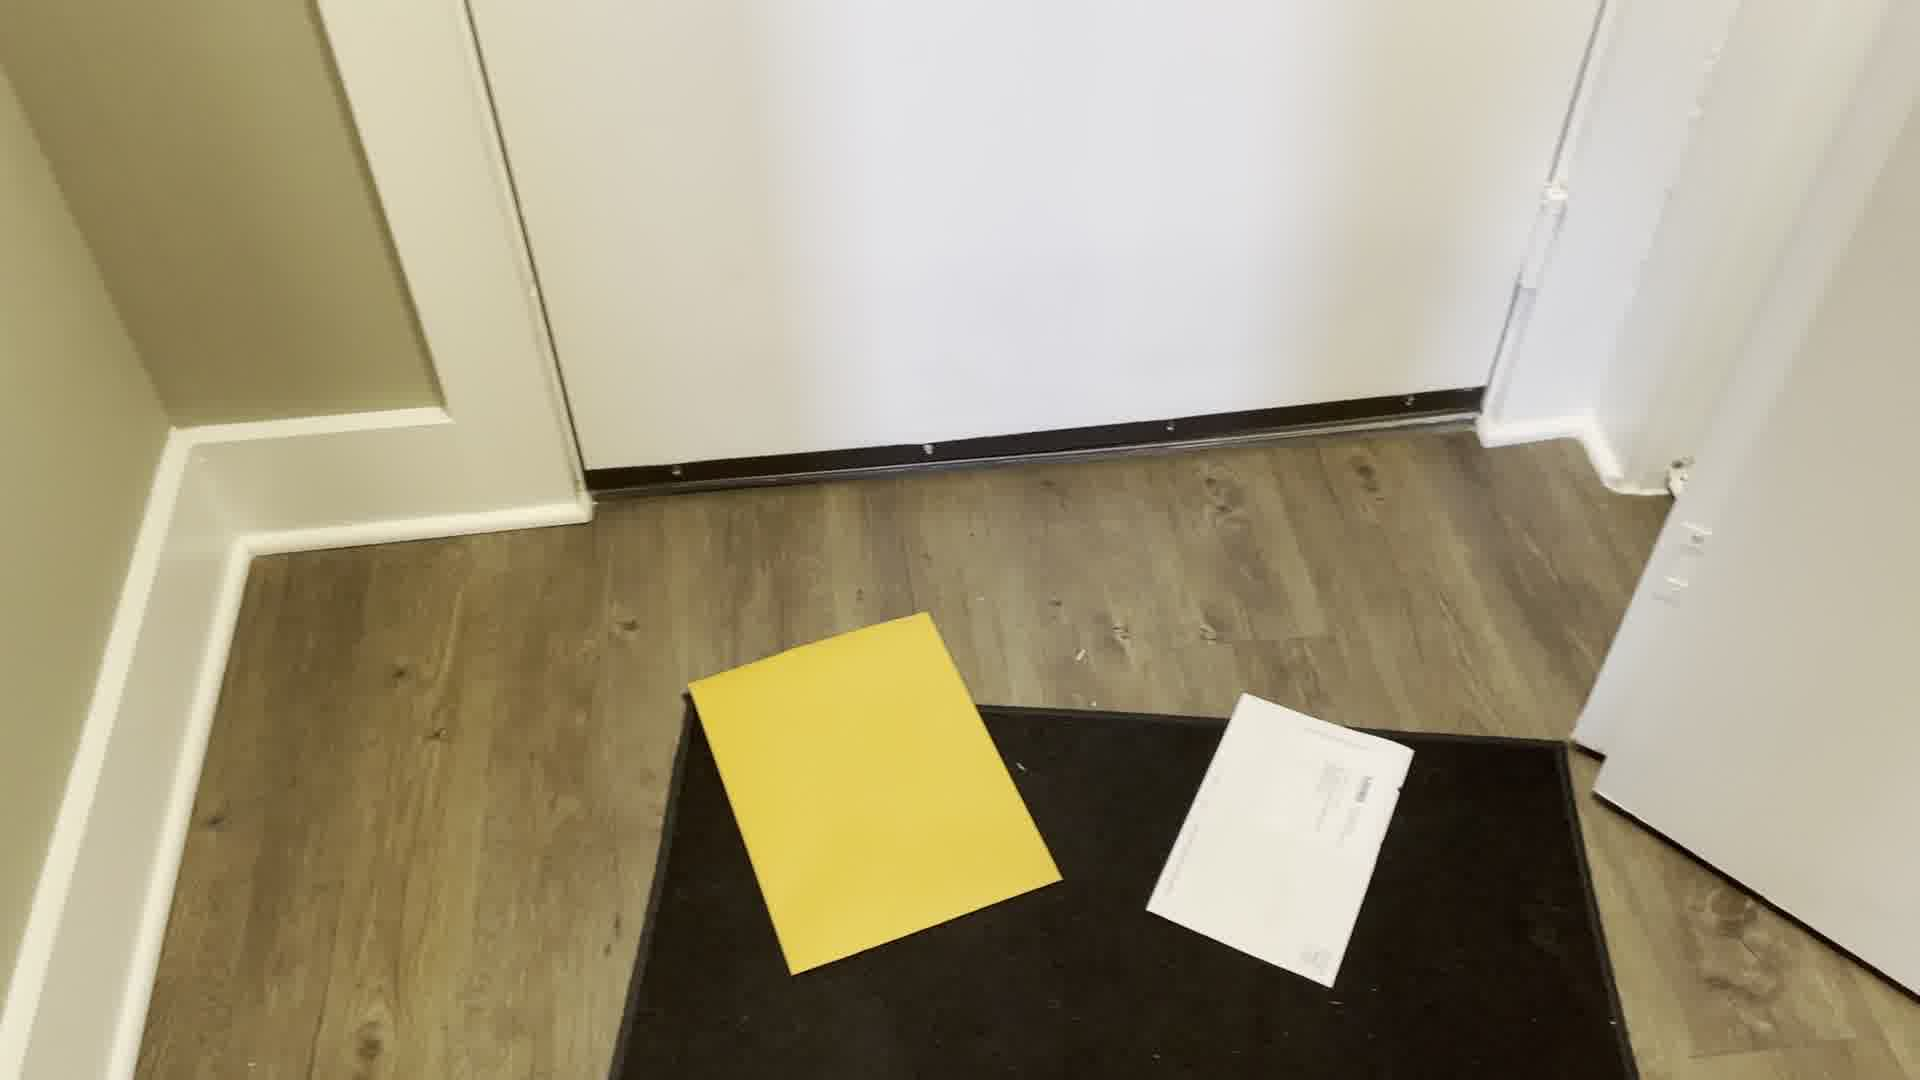envelope: (678, 595, 1073, 985), (1129, 680, 1420, 1000)
